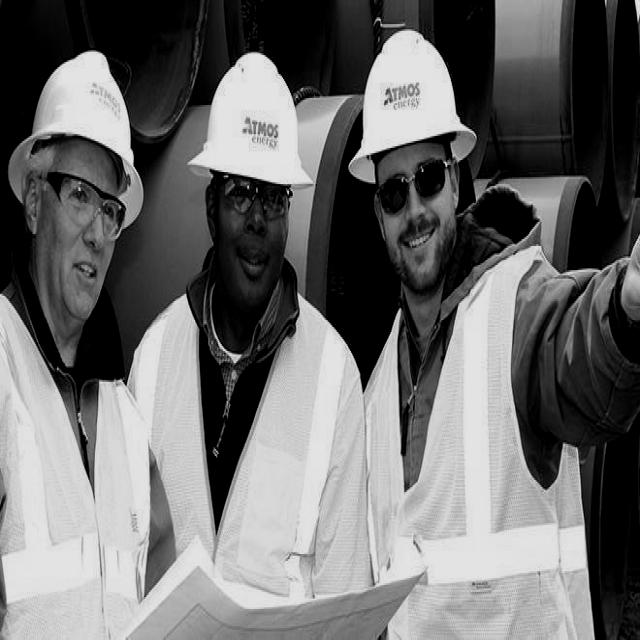face_nomask: (202, 139, 296, 320), (31, 122, 117, 315), (381, 142, 457, 286)
glasses: (54, 166, 125, 245), (376, 155, 450, 218), (217, 167, 296, 224)
head_helmet: (17, 42, 145, 216), (192, 49, 307, 199), (359, 28, 473, 177)
person: (139, 65, 356, 640), (361, 65, 578, 640), (2, 46, 143, 636)
vest: (356, 247, 600, 640), (144, 299, 359, 640), (1, 320, 149, 640)
